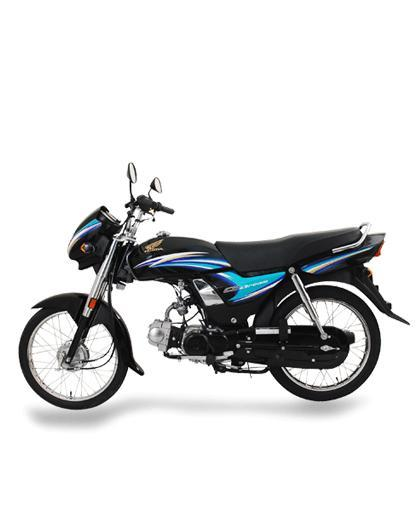bike: (14, 164, 407, 410)
